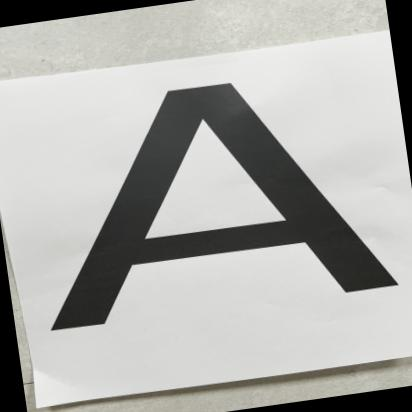seat: (11, 60, 406, 340)
